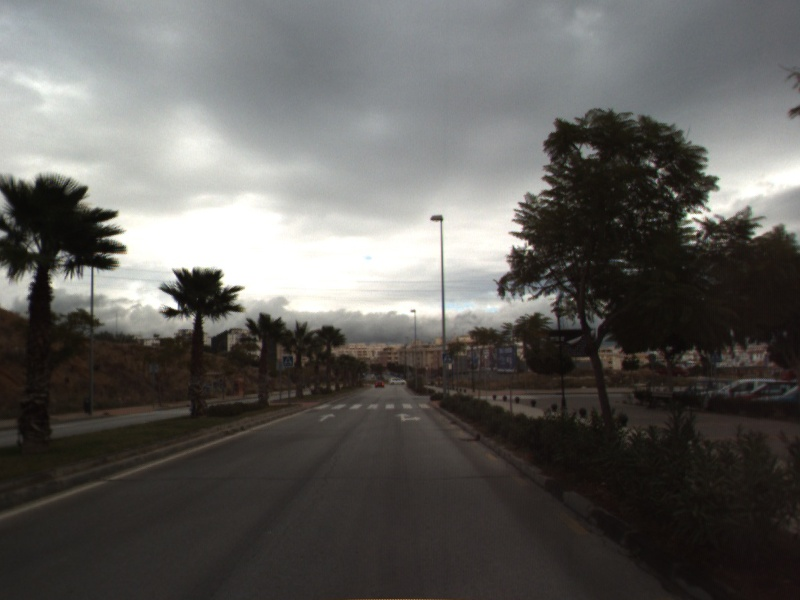STRAIGHT: (317, 411, 338, 423)
STRAIGHT_RIGHT: (393, 411, 423, 424)
